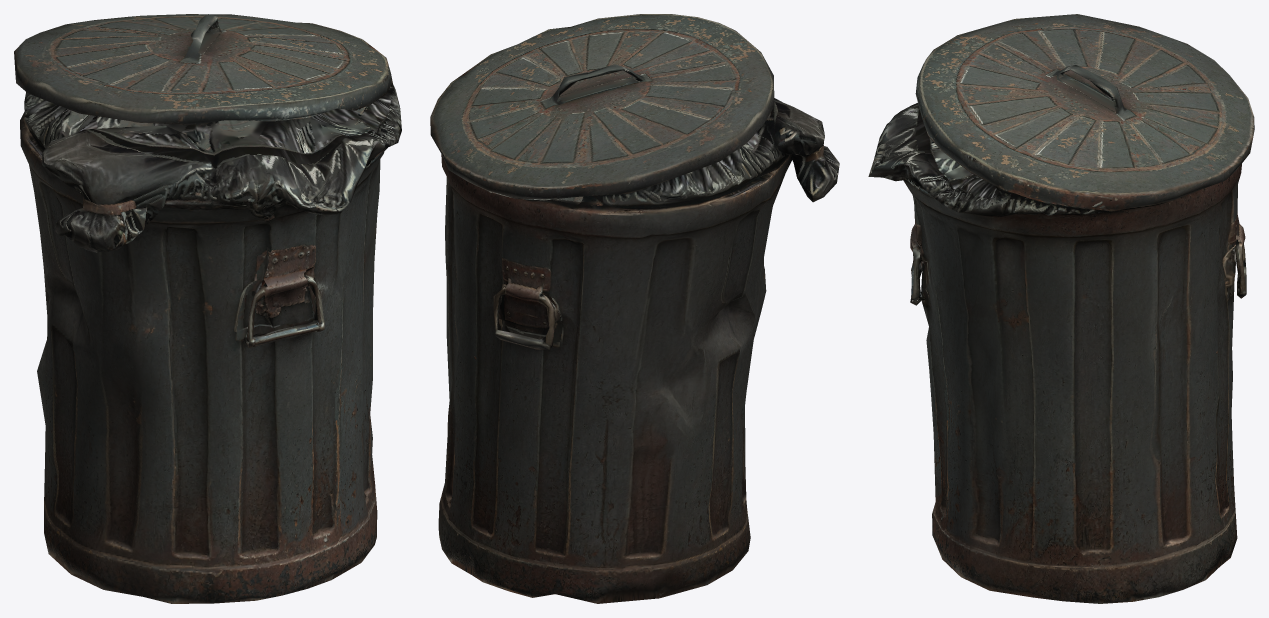
File: prop_trash_can.glb
The picture shows the model from 3 angles, left to right: view 1: azimuth 30°, elevation 25°; view 2: azimuth 150°, elevation 25°; view 3: azimuth 270°, elevation 25°; orthographic projection. The views are drawn at different scales.
Parts seen in each view (by area): view 1: texture_mapping; view 2: texture_mapping; view 3: texture_mapping.
Boxes of the visible parts, x1,y1,x2,y2 form: texture_mapping: (14, 14, 401, 603); texture_mapping: (430, 14, 839, 603); texture_mapping: (868, 14, 1254, 603).
Size of the model in its own units: 0.7418 by 0.9999 by 0.7476.
Materials: 1 (1 with a texture image).
